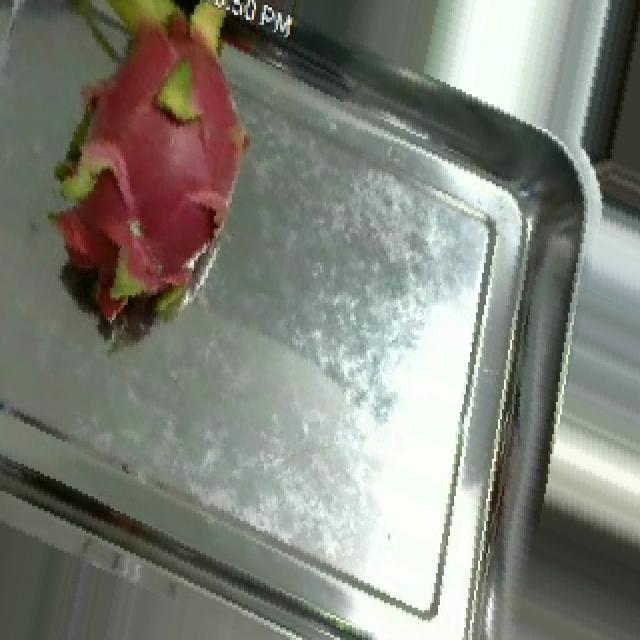fruit: (0, 0, 334, 389)
